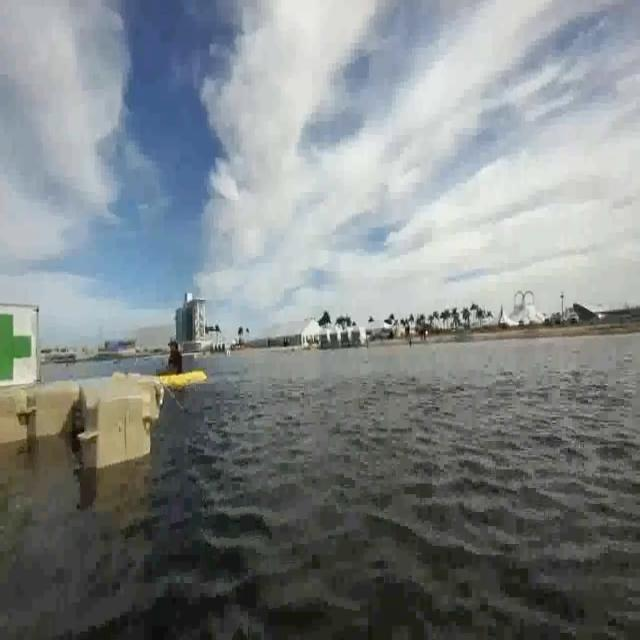blue-cross: (2, 302, 39, 391)
